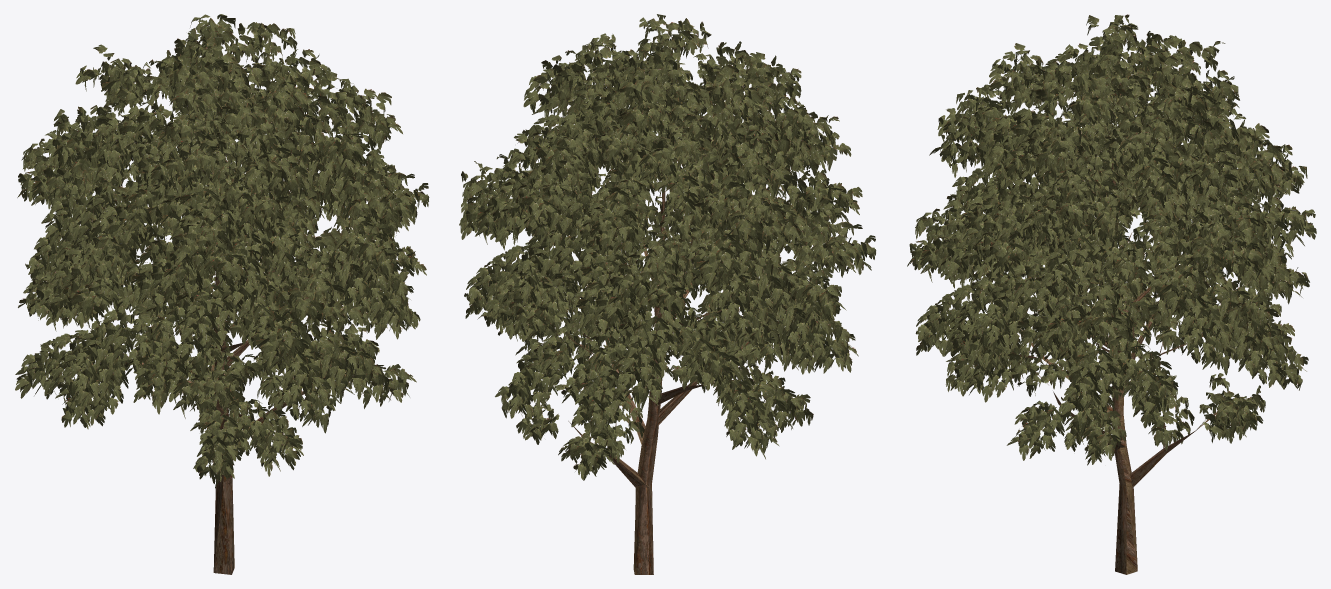
The model's file is Puu2.fbx.
The picture shows the model from 3 angles, left to right: view 1: azimuth 30°, elevation 25°; view 2: azimuth 150°, elevation 25°; view 3: azimuth 270°, elevation 25°; orthographic projection. The views are drawn at different scales.
Parts seen in each view (by area): view 1: Puu2; view 2: Puu2; view 3: Puu2.
Part boxes in pixels (x1,y1,x2,y2): Puu2: [15, 14, 429, 574]; Puu2: [459, 14, 876, 574]; Puu2: [907, 14, 1316, 574].
Size of the model in its own units: 468 by 641 by 463.
